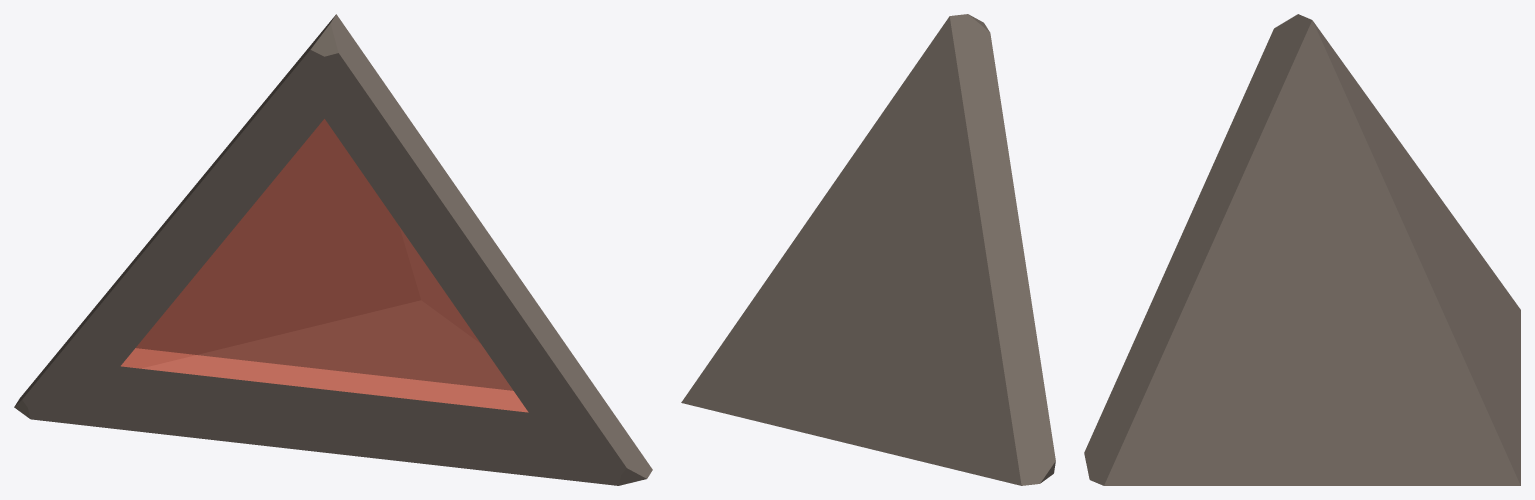
Rendered from red_pyramid.gltf.
3 renders of one model, left to right at view 1: azimuth 30°, elevation 25°; view 2: azimuth 150°, elevation 25°; view 3: azimuth 270°, elevation 25°, orthographic. The views are drawn at different scales.
Visible parts, largest first — view 1: red_pyramid; view 2: red_pyramid; view 3: red_pyramid.
Part boxes in pixels (left/top/right/bottom): red_pyramid: left=14, top=14, right=652, bottom=485; red_pyramid: left=681, top=14, right=1055, bottom=485; red_pyramid: left=1084, top=14, right=1520, bottom=485.
Size of the model in its own units: 1.83 by 1.75 by 1.83.
